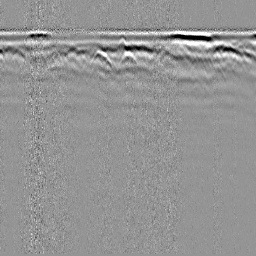cavity: (117, 48, 138, 68)
